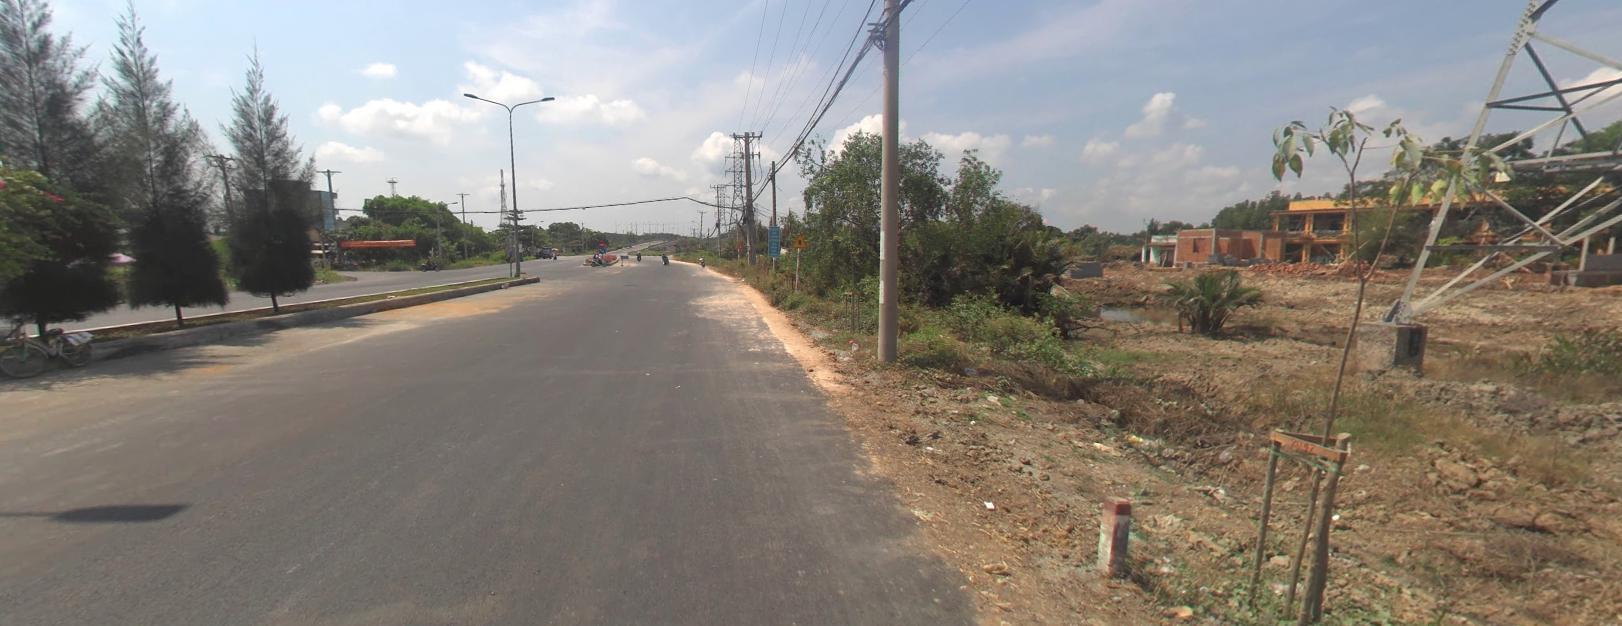Cam nguoc chieu: (598, 240, 604, 245)
Hieu lenh: (598, 245, 604, 251)
Nguy hiem: (791, 232, 807, 246), (733, 239, 743, 247)
